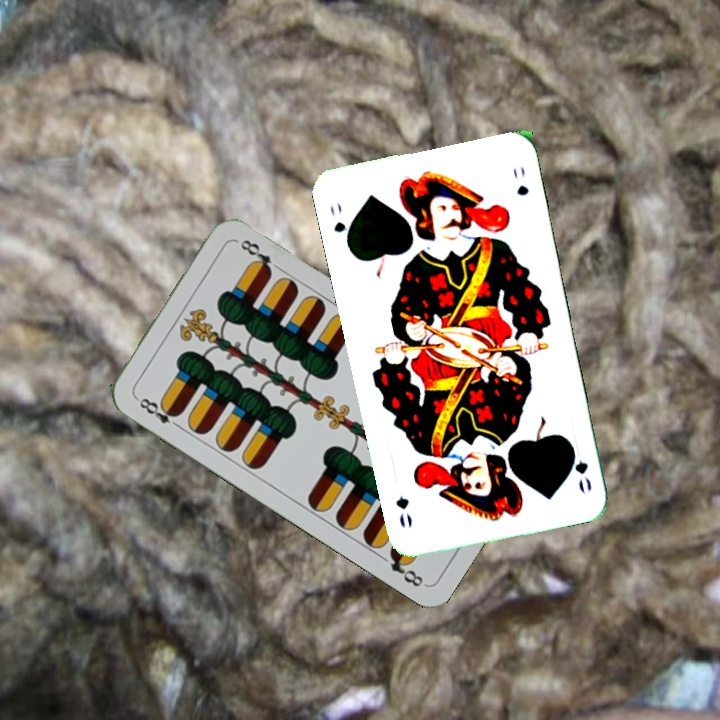E8: (131, 393, 184, 431)
GO: (565, 438, 595, 496), (326, 198, 354, 251)
